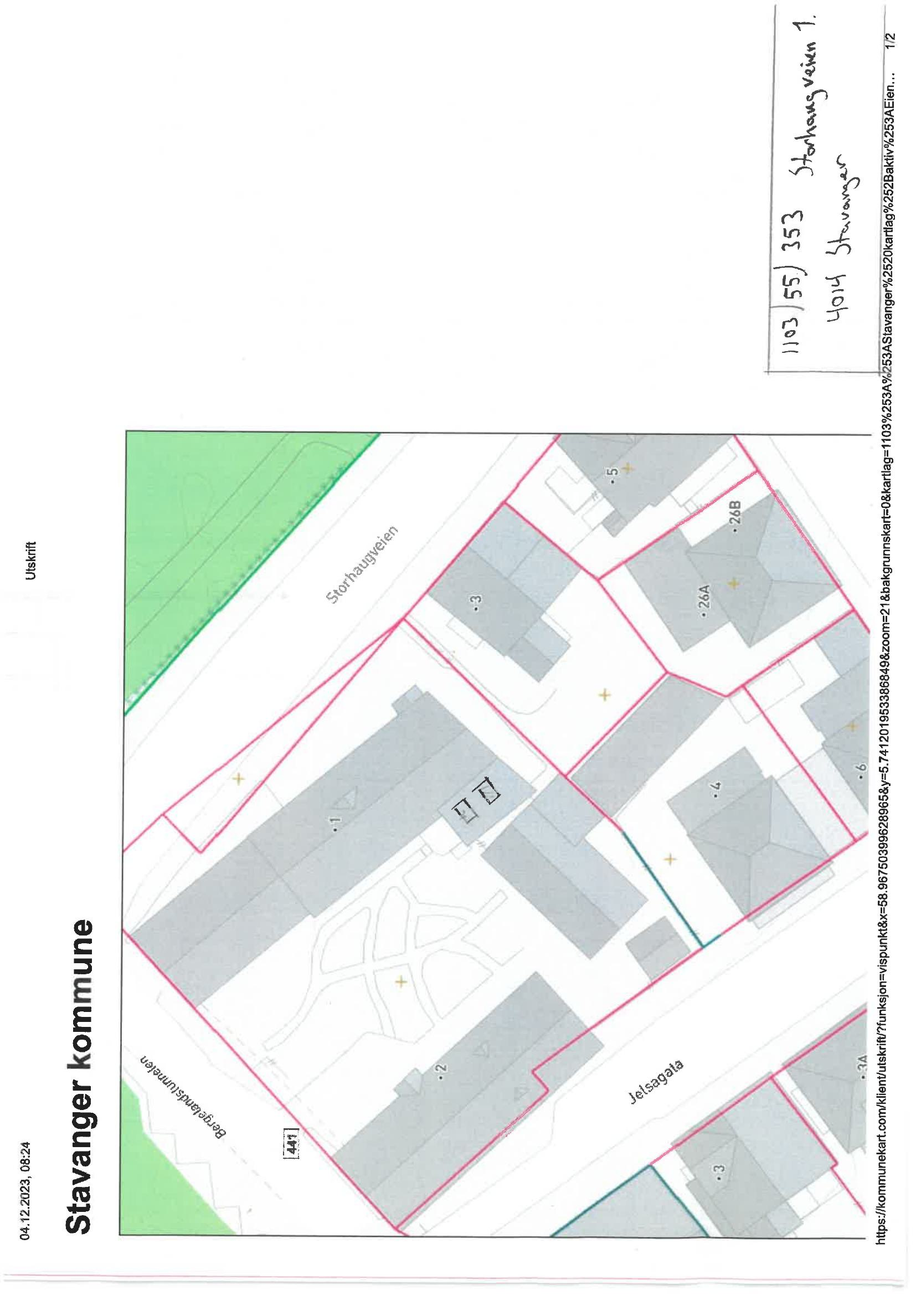situasjonskart: (128, 431, 868, 1237)
